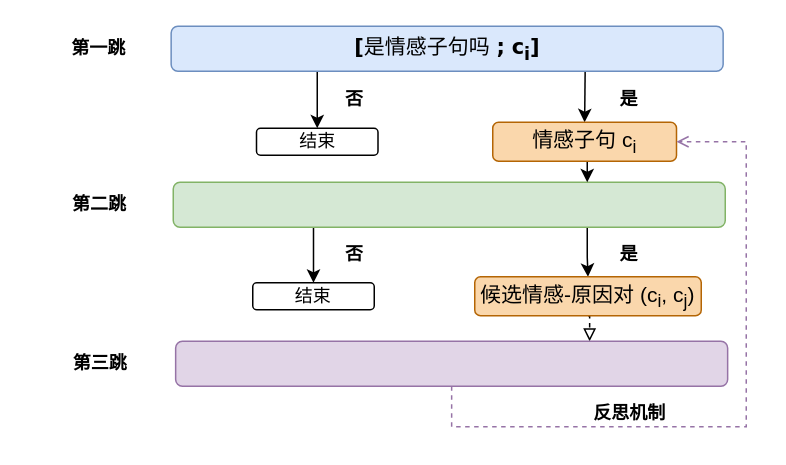
The diagram is 786 pixels wide and 465 high, and some of its shapes have lost their labels. Here are the shapes that lost their labels. From the top down, the centre of each, then its label:
(448,204): [ 是 c i 对应的原因子句吗 ; c j ]
(451,363): [ 是 c j 对应的情感子句吗 ; c i ]
